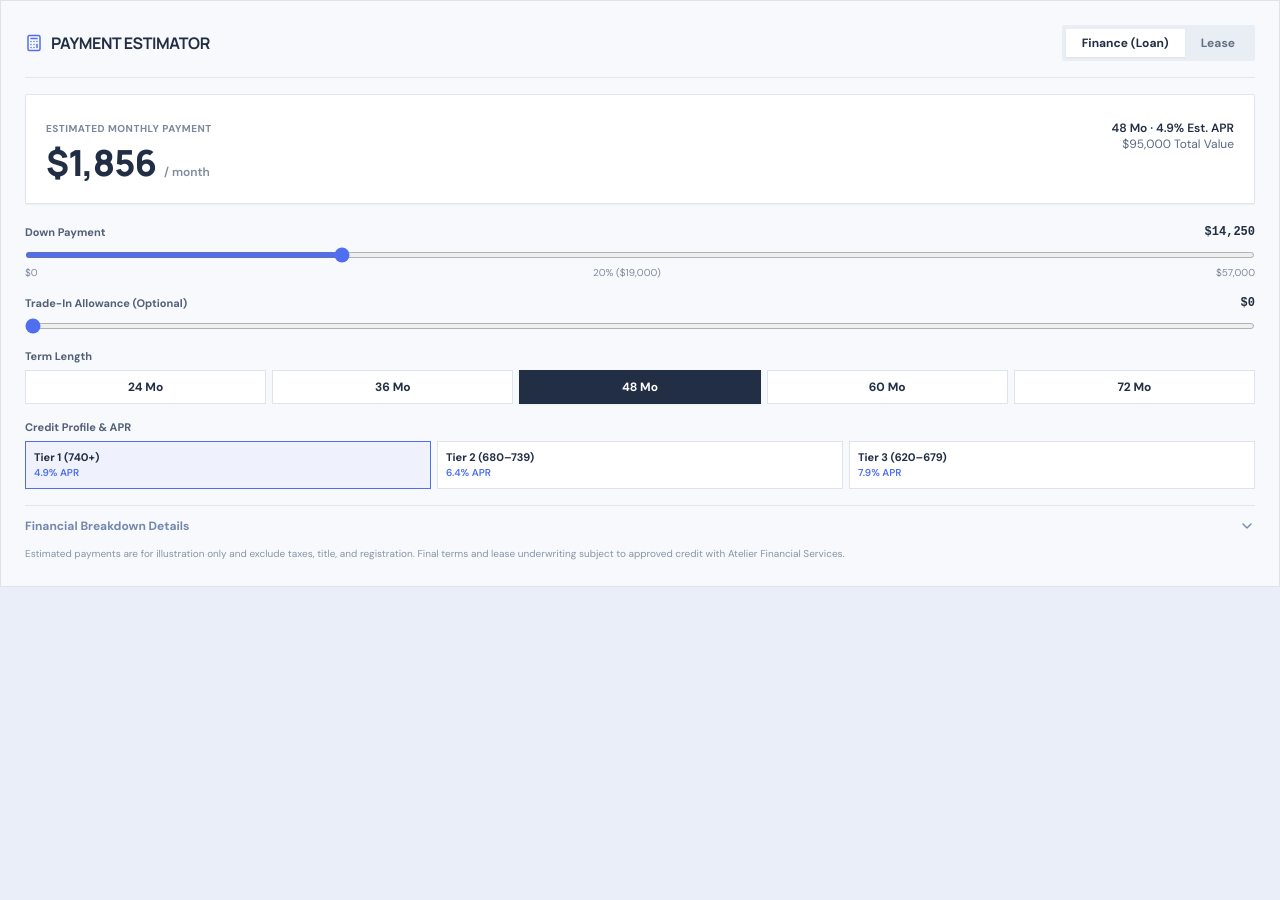
Test case: PaymentCalculator Component › allows toggling financial breakdown details
Check: the text "Agreed Vehicle Value" is not shown
Step 1. Click the button "Financial Breakdown Details" → click(107, 526), box [25,518,1255,534]
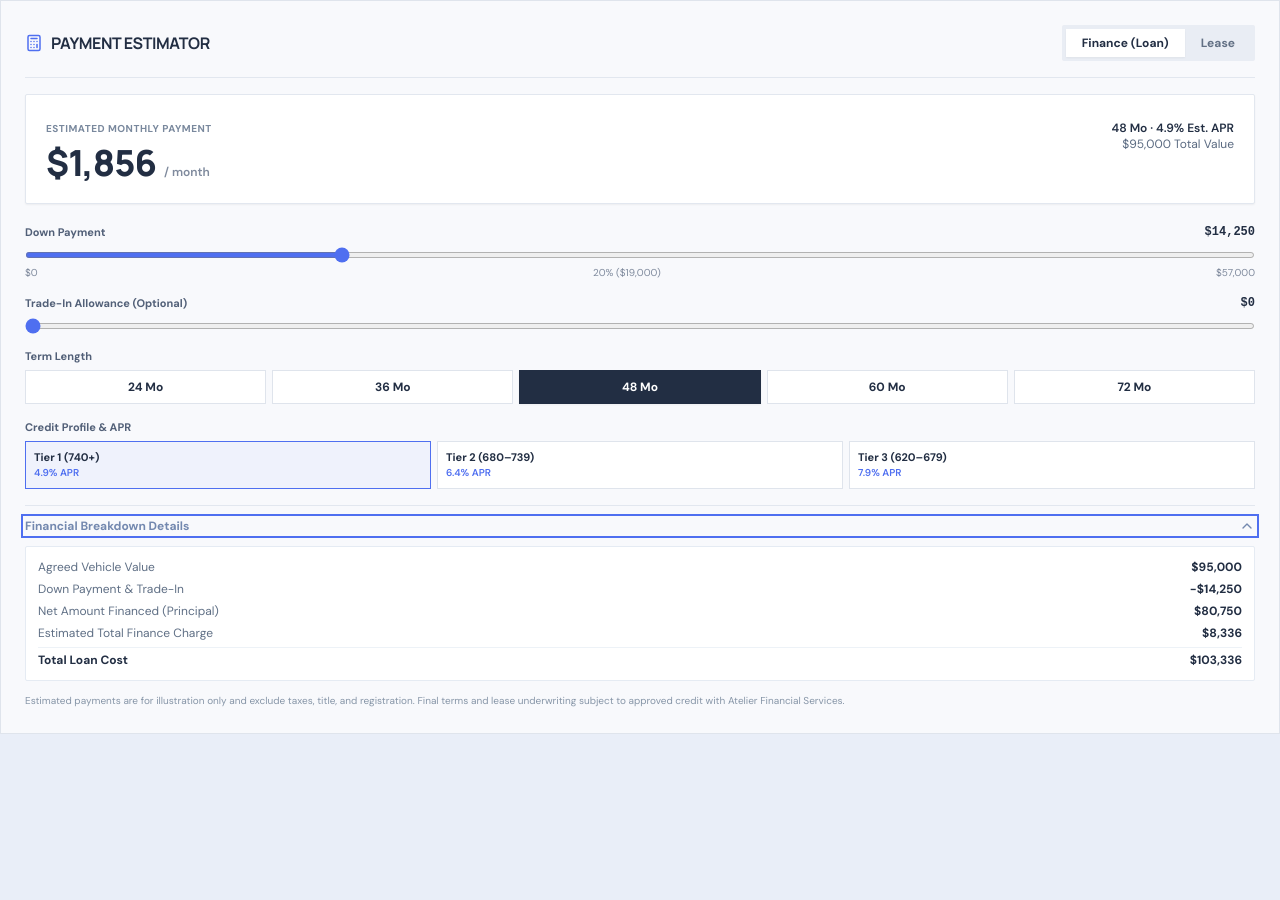
Check: the text "Agreed Vehicle Value" is shown, box [38,559,155,575]
Check: the text "Total Loan Cost" is shown, box [38,652,128,668]
